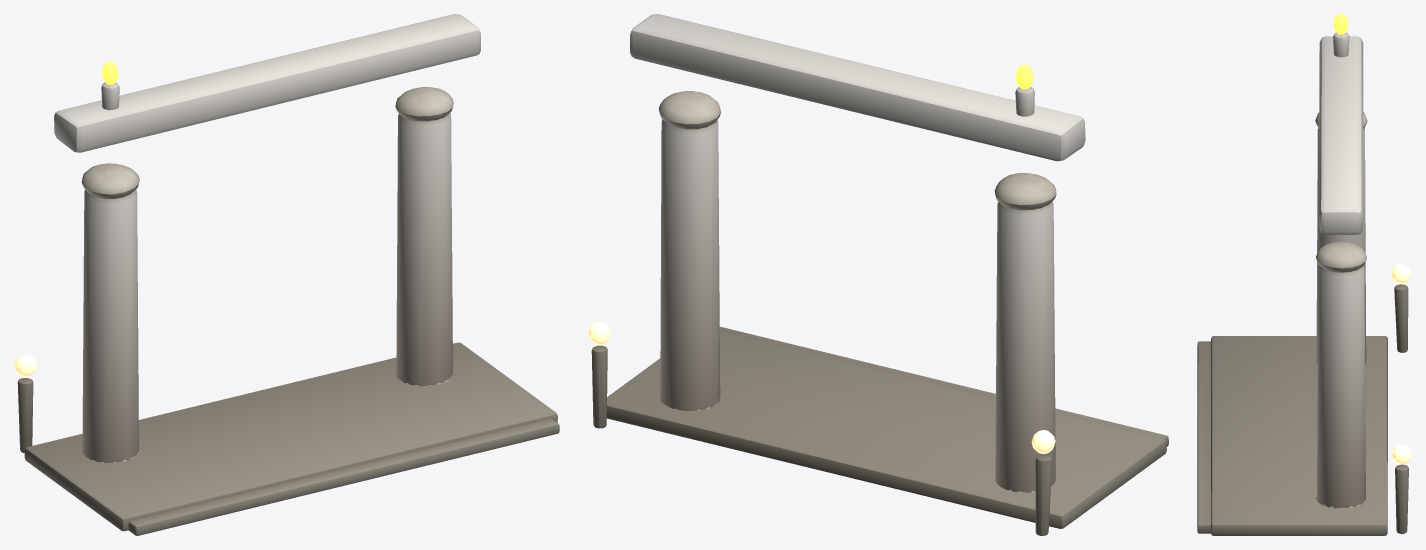
3 views of the same model, side by side, from view 1: azimuth 30°, elevation 25°; view 2: azimuth 150°, elevation 25°; view 3: azimuth 270°, elevation 25° (orthographic). The views are drawn at different scales.
Parts seen in each view (by area): view 1: gate_7642648b; view 2: gate_7642648b; view 3: gate_7642648b.
Part boxes in pixels (x1,y1,x2,y2): gate_7642648b: (14,14,559,535); gate_7642648b: (588,14,1168,535); gate_7642648b: (1197,14,1411,535).
Size of the model in its own units: 5.34 by 4.71 by 2.55.
